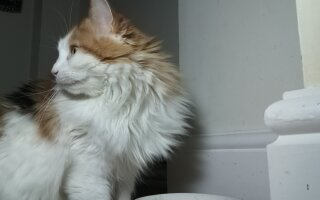clara: (5, 7, 191, 200)
